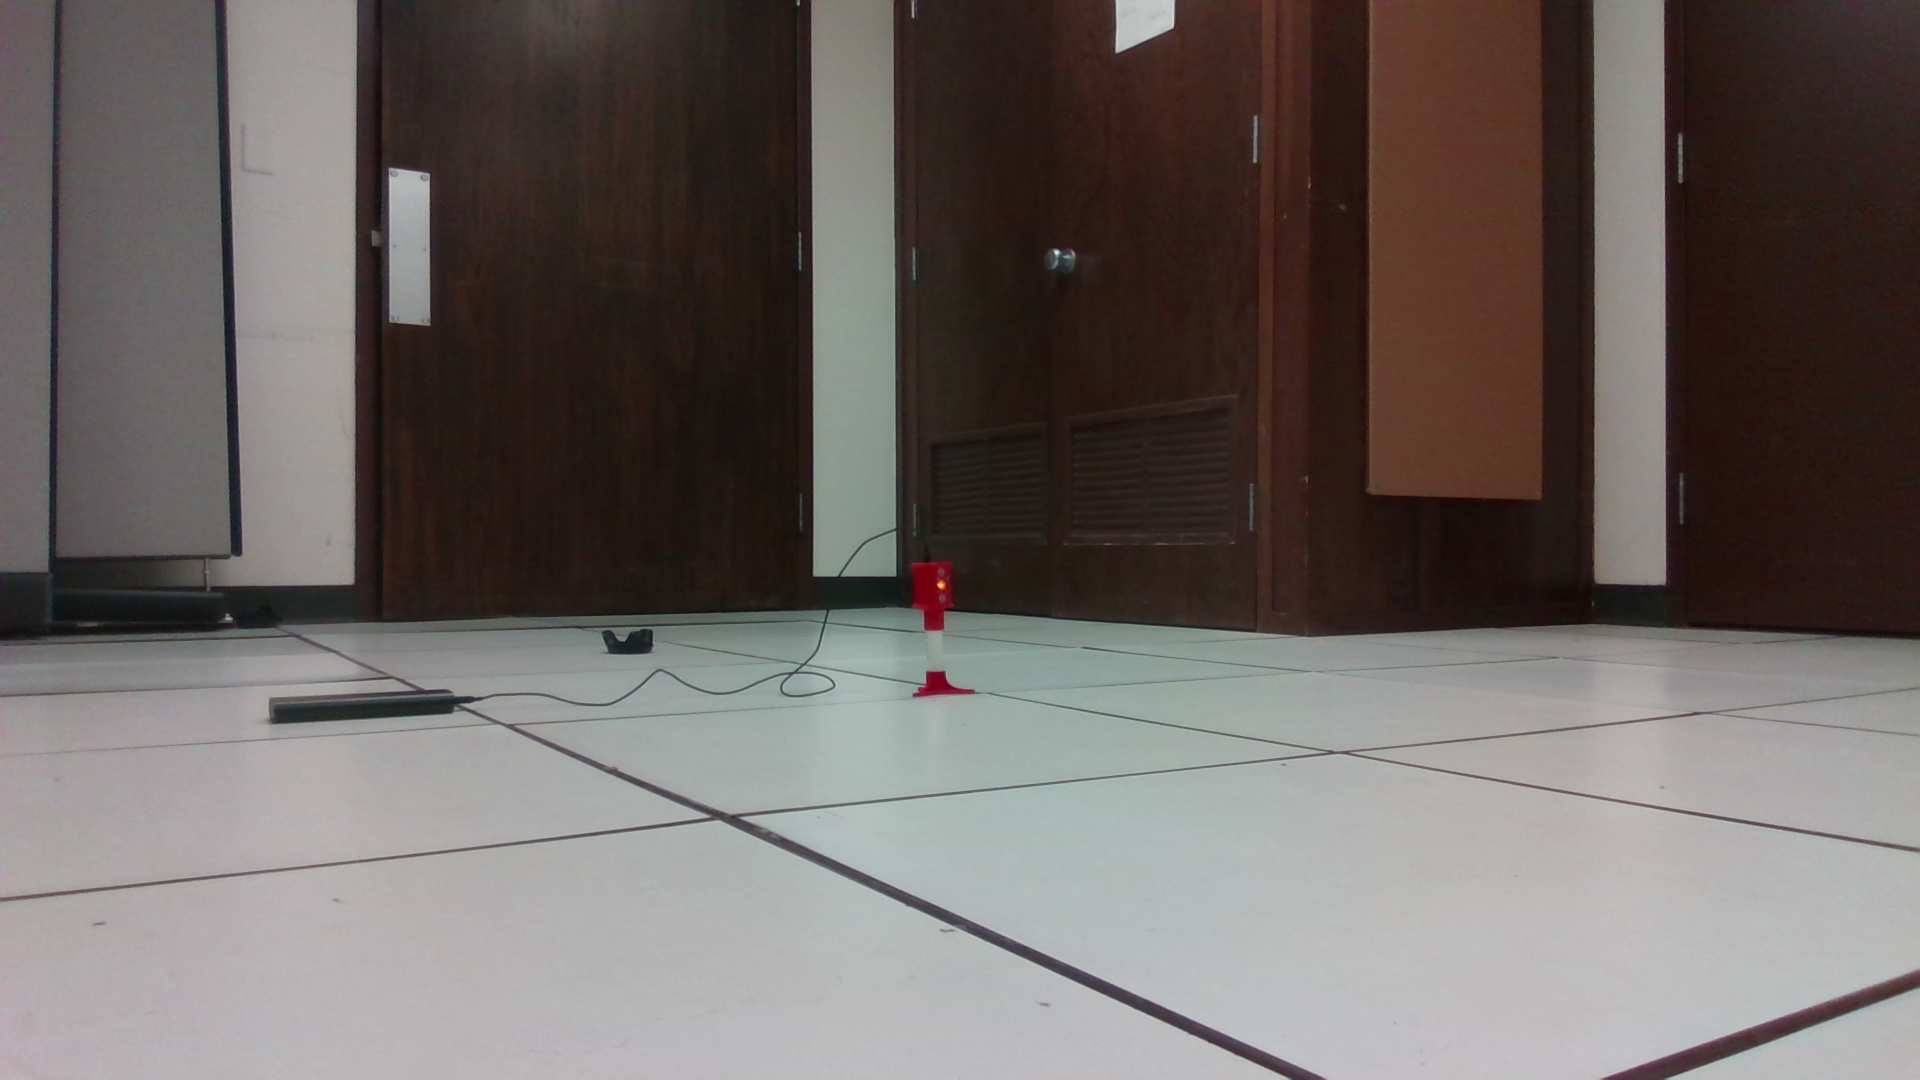stoplight: (913, 560, 953, 632)
